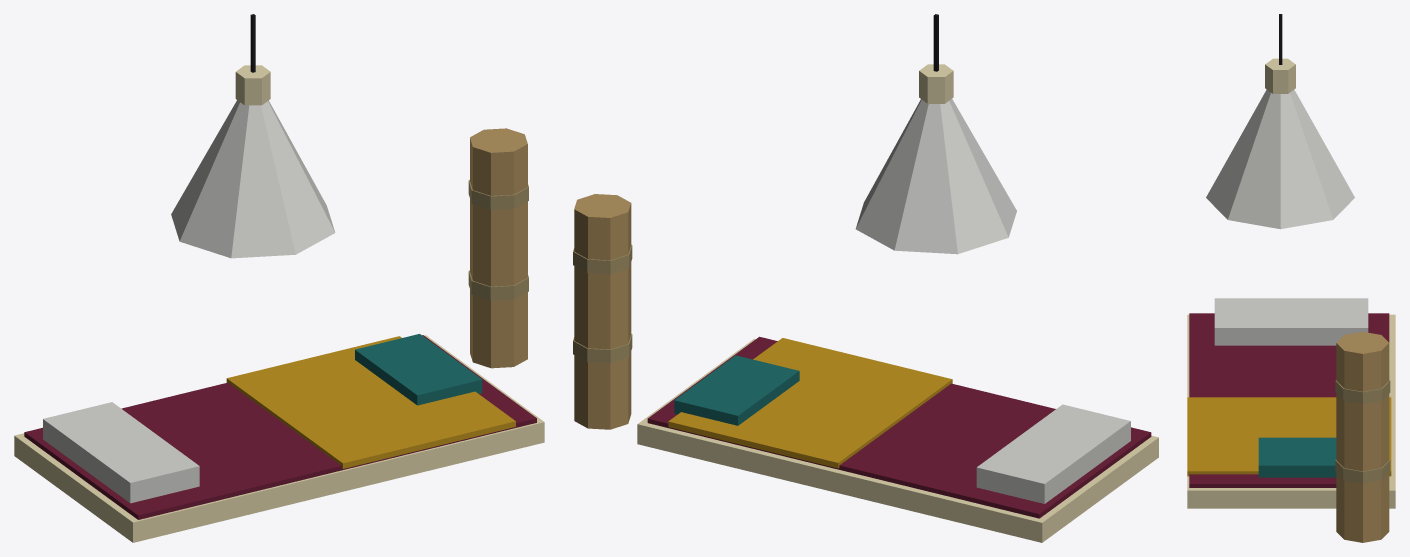
File: prop_floor-bed.glb
3 renders of one model, left to right at view 1: azimuth 30°, elevation 25°; view 2: azimuth 150°, elevation 25°; view 3: azimuth 270°, elevation 25°, orthographic. The views are drawn at different scales.
Parts seen in each view (by area): view 1: body; view 2: body; view 3: body.
Part boxes in pixels (left/top/right/bottom): body: left=14, top=14, right=544, bottom=542; body: left=573, top=14, right=1158, bottom=542; body: left=1187, top=14, right=1395, bottom=542.
Bounding box in the file's own units: 2.28 × 1.97 × 0.95.
